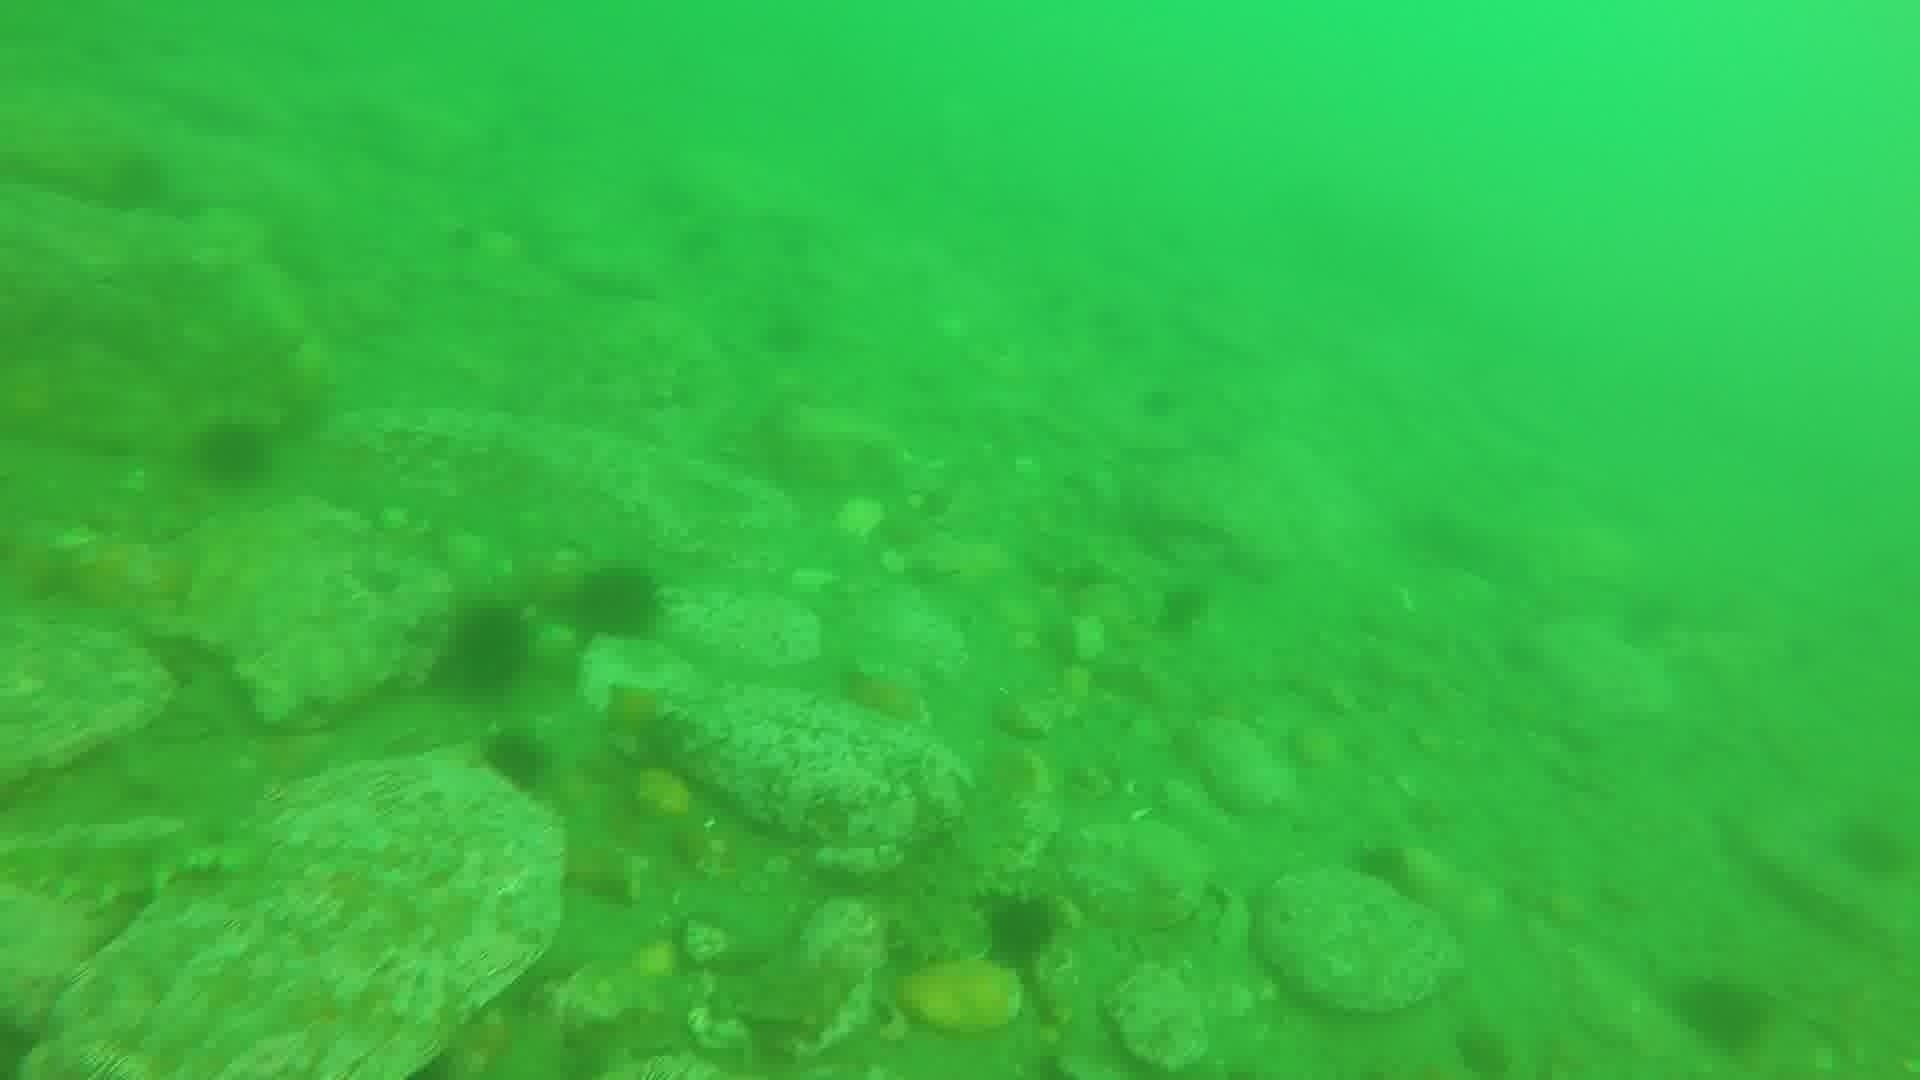echinus: (440, 597, 535, 698), (1669, 971, 1774, 1058), (566, 559, 669, 646), (975, 887, 1063, 971), (190, 415, 276, 491), (476, 727, 556, 798), (1832, 812, 1911, 884), (96, 148, 175, 218), (1346, 836, 1422, 901), (1149, 578, 1215, 641)
holothurian: (3, 808, 261, 913)
starfish: (596, 678, 676, 746)
